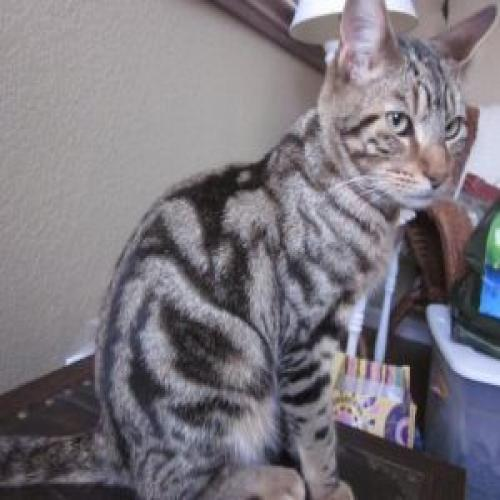bengal: (321, 1, 500, 221)
